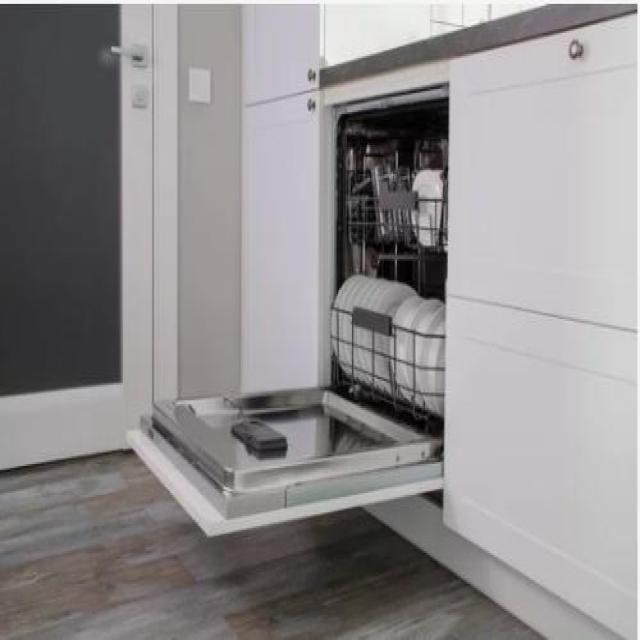dishwasher: (123, 70, 449, 524)
